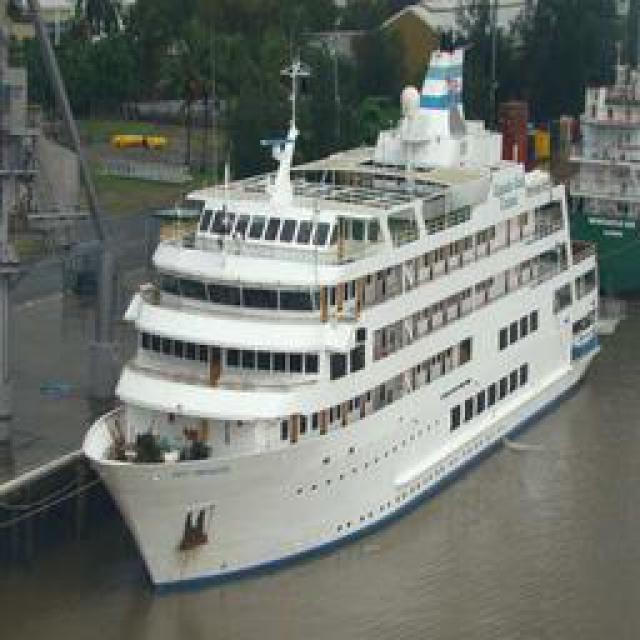Ship: (69, 40, 602, 603)
